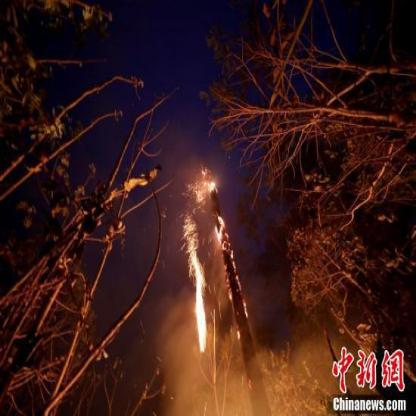fire: (179, 171, 251, 349)
